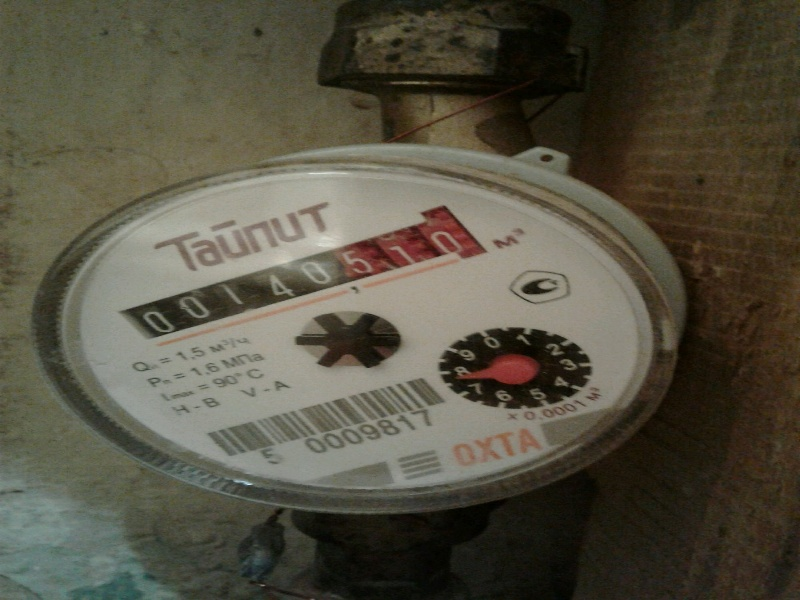meter: (116, 257, 464, 342)
